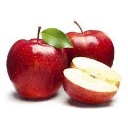apple: (62, 56, 121, 104)
